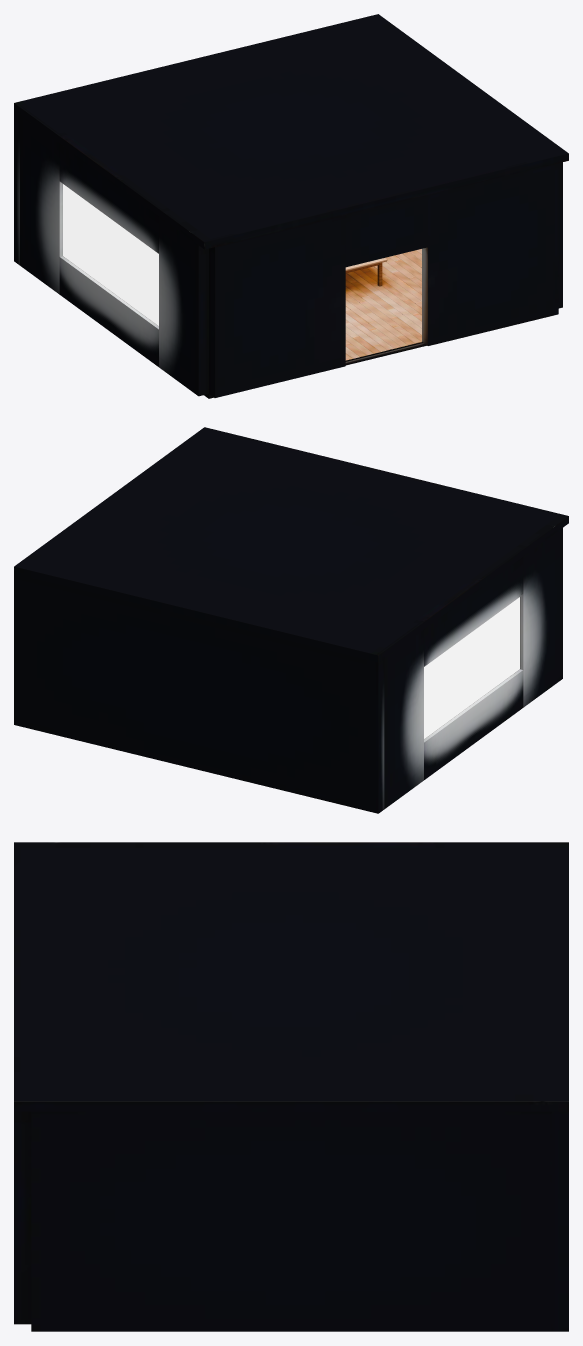
Rendered from room_rails_m.glb.
The picture shows the model from 3 angles, top to bottom: view 1: azimuth 30°, elevation 25°; view 2: azimuth 150°, elevation 25°; view 3: azimuth 270°, elevation 25°; orthographic projection. The views are drawn at different scales.
Visible parts, largest first — view 1: baked_ceiling, baked_walls, baked_floor, window_glass; view 2: baked_walls, baked_ceiling, window_glass; view 3: baked_ceiling, baked_walls.
Part boxes in pixels (x1,y1,x2,y2): baked_ceiling: (14,14,568,249); baked_walls: (14,110,562,397); baked_floor: (204,249,426,398); window_glass: (63,184,158,325); baked_walls: (14,528,562,813); baked_ceiling: (14,427,568,662); window_glass: (424,597,519,738); baked_ceiling: (14,842,568,1111); baked_walls: (14,1111,568,1331).
Size of the model in its own units: 10.6 by 4.54 by 9.6.
Materials: 6 (4 with a texture image).
